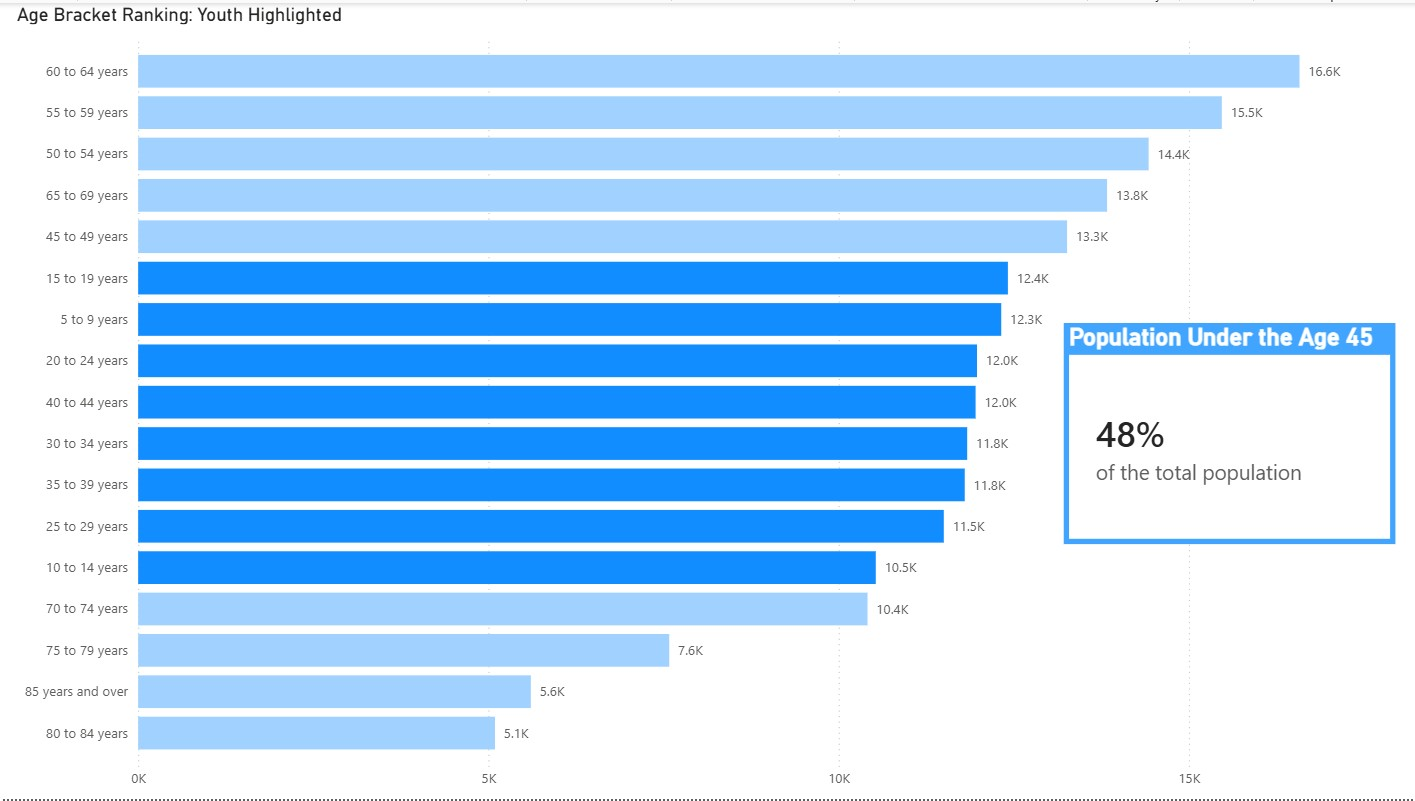

Layout of this report page (visuals, bound fields, positions):
{"tool":"powerbi","page":{"name":"Age Bracket Ranking: Youth Highlighted","canvas":[1280,720],"ordinal":2},"visuals":[{"type":"clusteredBarChart","title":"Age Bracket Ranking: Youth Highlighted","fields":{"Category":["Total Population 2020.Age Group"],"Y":["Sum(Total Population 2020.Total Population)"]},"box":[9.8,0,1270.5,719.7],"z":0},{"type":"cardVisual","title":"Population Under the Age 45","fields":{"Data":["Total Population 2020.% Under 45 of Total Pop"]},"box":[962.3,290,300,200],"z":1000}]}

Visuals, with their boxes in screenshot pixels (x1, y1, x2, y2), scaled from the page's 1280x720 canvas onto the 1415x801 screenshot:
"Age Bracket Ranking: Youth Highlighted" clusteredBarChart: 11/0/1414/800
"Population Under the Age 45" cardVisual: 1064/323/1395/545
